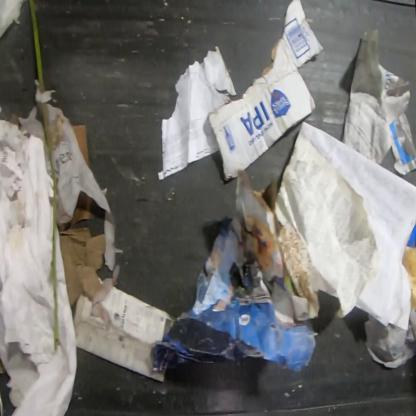cardboard: (209, 0, 322, 181), (232, 168, 320, 325), (58, 228, 106, 308), (70, 190, 94, 227), (71, 125, 89, 168)
